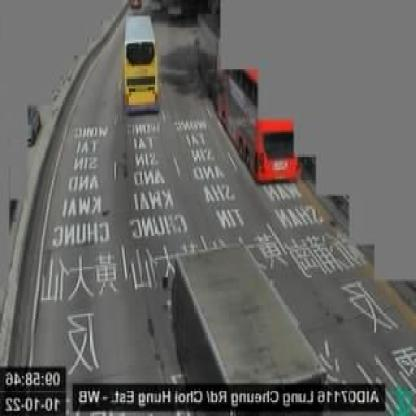Bus: (212, 62, 295, 181), (123, 12, 161, 113)
Car: (129, 1, 140, 10)
